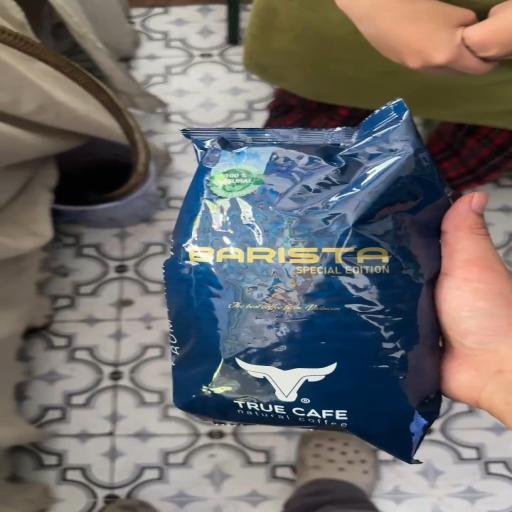cafe_hat: (164, 100, 450, 462)
